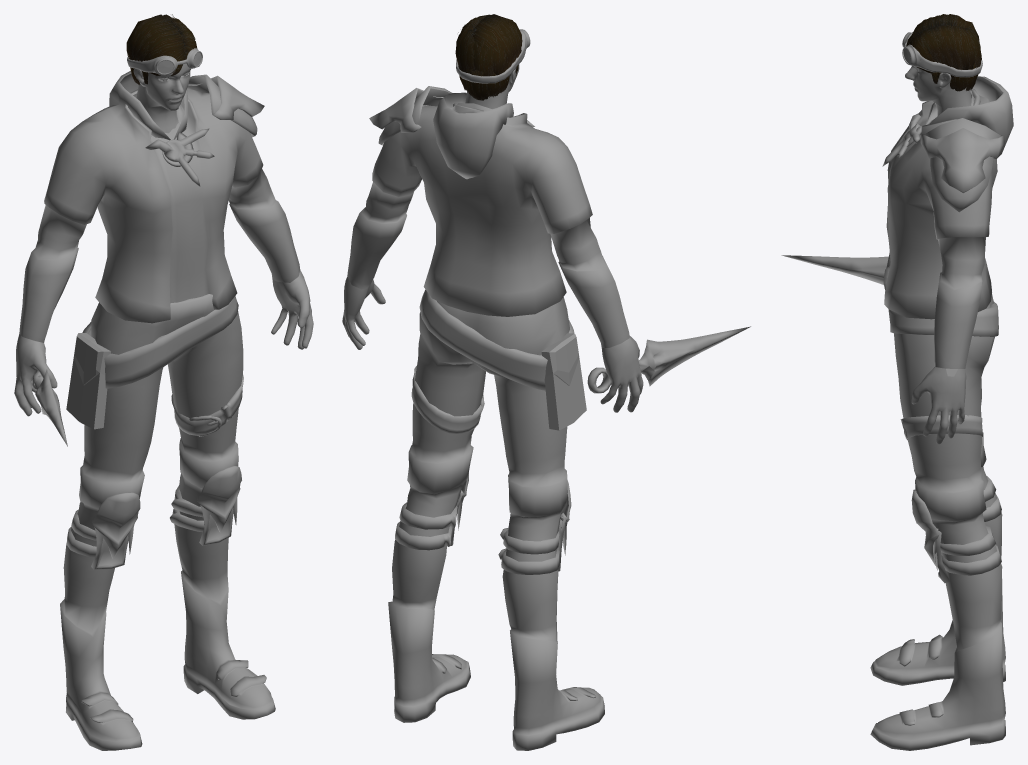
Rendered from man_final.FBX.
3 renders of one model, left to right at view 1: azimuth 30°, elevation 25°; view 2: azimuth 150°, elevation 25°; view 3: azimuth 270°, elevation 25°, orthographic.
Parts seen in each view (by area): view 1: man, hend, hair, face, sword; view 2: man, hair, hend, sword; view 3: man, hair, hend, face, sword.
Part boxes in pixels (left/top/right/bottom): man: left=19, top=48, right=300, bottom=750; hend: left=14, top=270, right=313, bottom=416; hair: left=126, top=14, right=196, bottom=84; face: left=133, top=63, right=190, bottom=133; sword: left=31, top=369, right=67, bottom=446; man: left=347, top=29, right=629, bottom=750; hair: left=455, top=14, right=522, bottom=100; hend: left=342, top=277, right=643, bottom=412; sword: left=587, top=326, right=750, bottom=393; man: left=870, top=32, right=1013, bottom=750; hair: left=906, top=14, right=981, bottom=91; hend: left=911, top=367, right=966, bottom=444; face: left=905, top=66, right=971, bottom=115; sword: left=781, top=255, right=888, bottom=284.
Bounding box in the file's own units: 4.32 × 8.82 × 2.7.
